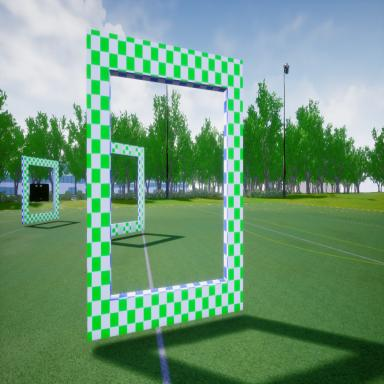gate: (82, 19, 246, 350), (17, 147, 62, 232)
